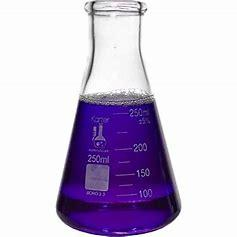Titrarion: (50, 10, 190, 234)
